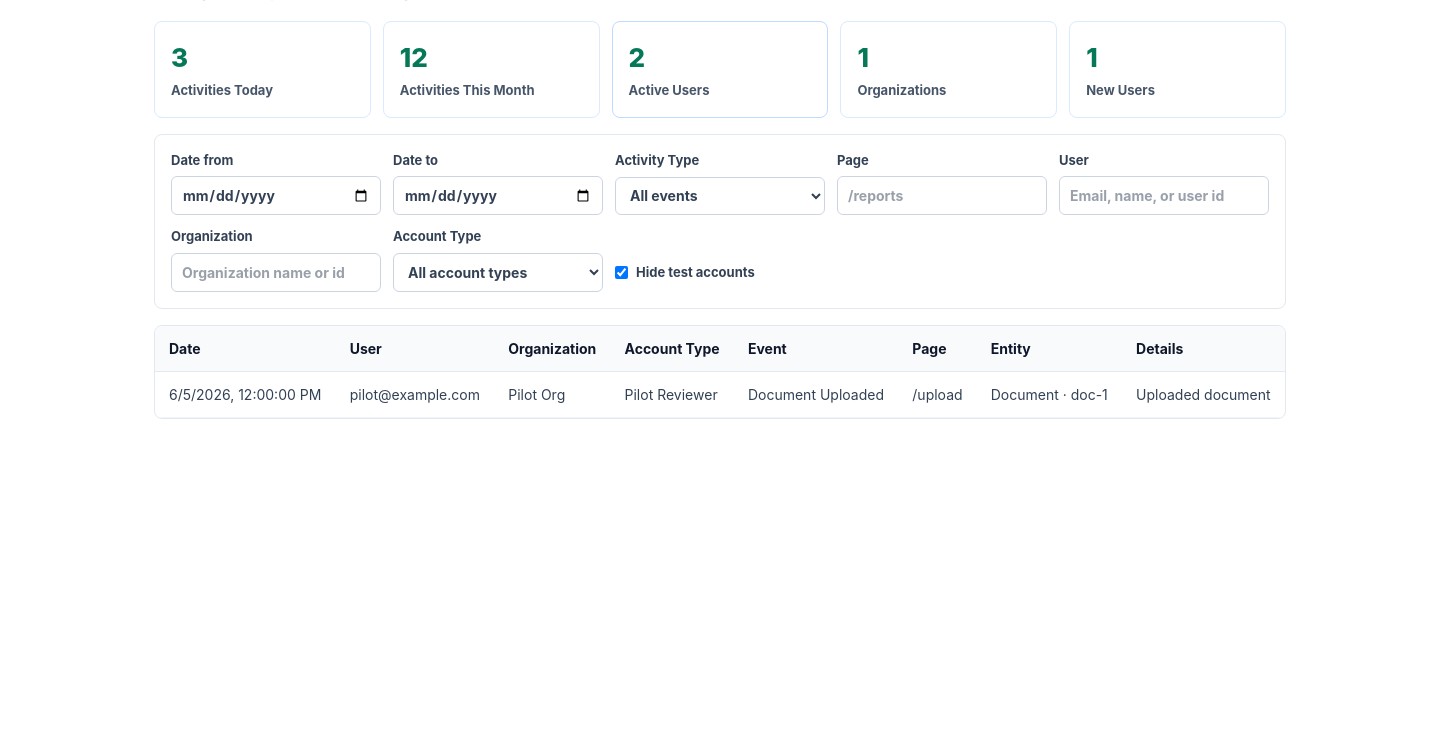
Test: UserActivityPage › can show test accounts and open active user activity details
Click the button "2 Active Users" at [720, 69], box [612,21,828,118]
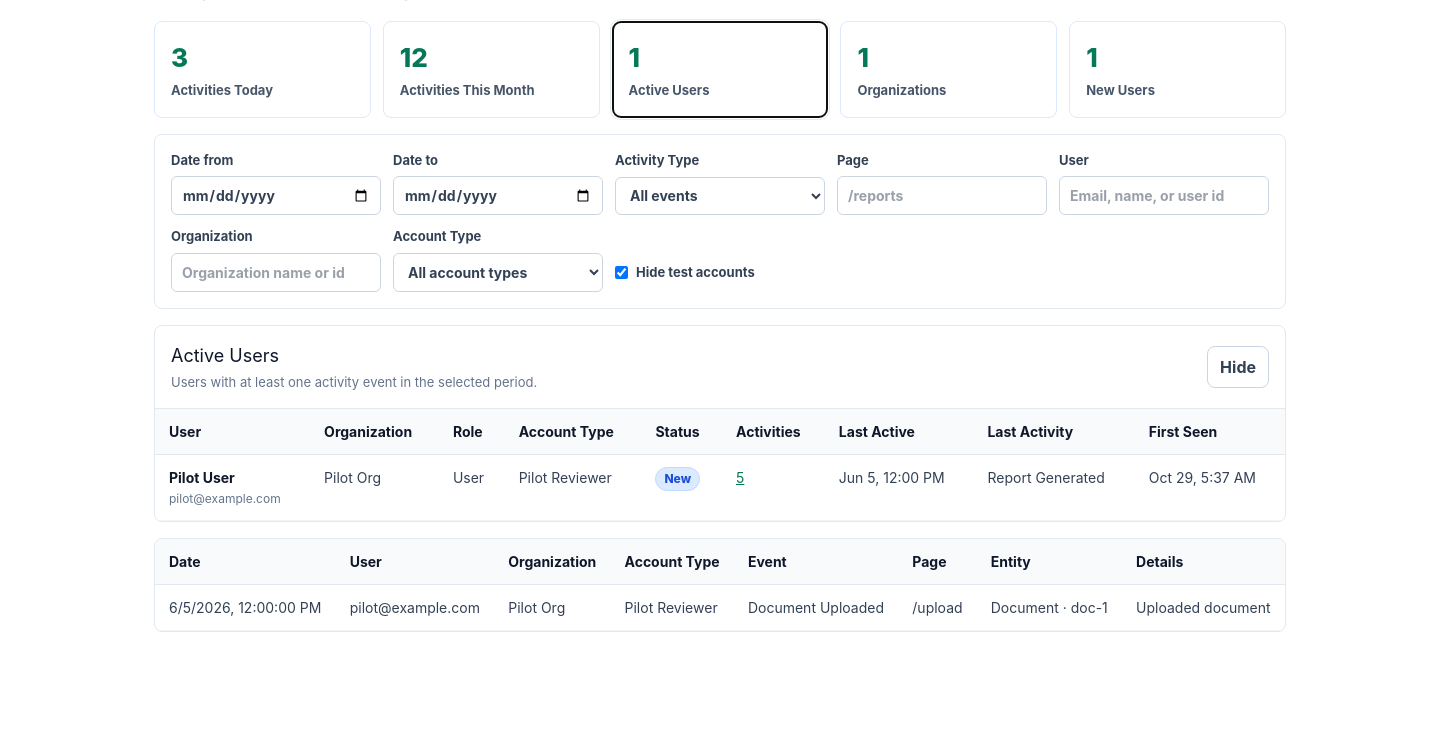
Click the checkbox labelled "Hide test accounts" at [622, 272], box [615,266,628,279]
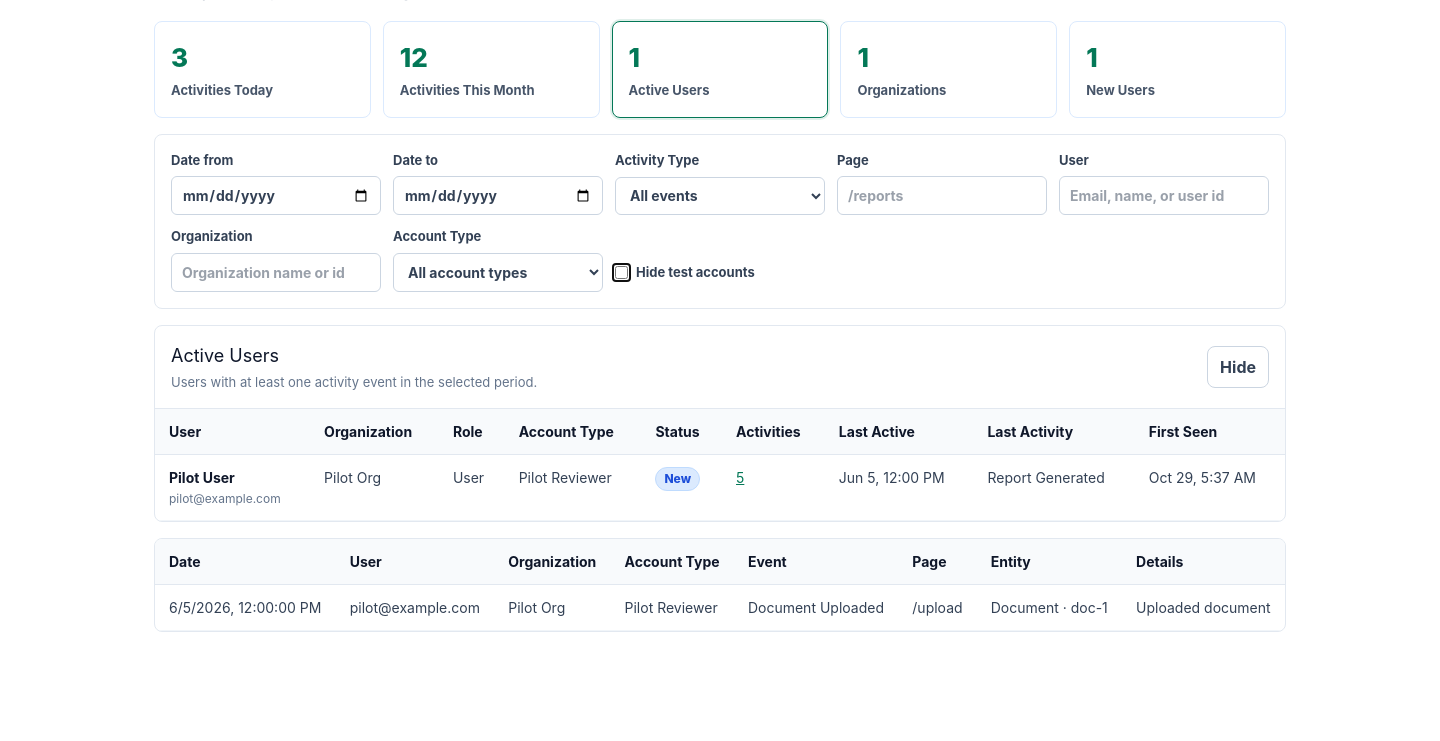
Click the button named "View 5 activities" at [740, 478], box [736,467,744,488]
(page scrolled)
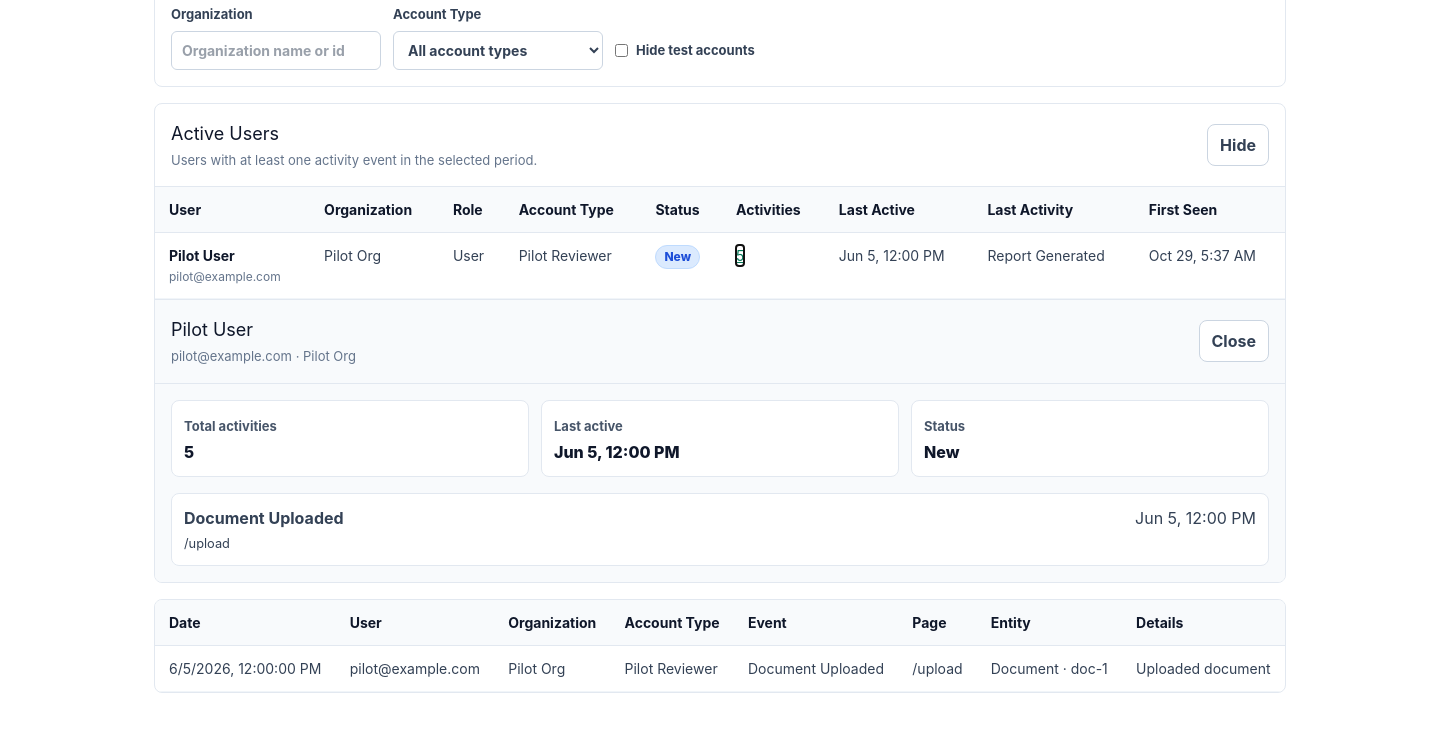
Now the text "Total activities" is shown, box [184,418,277,434]
Now the text "Document Uploaded" is shown, box [184,508,344,528]
